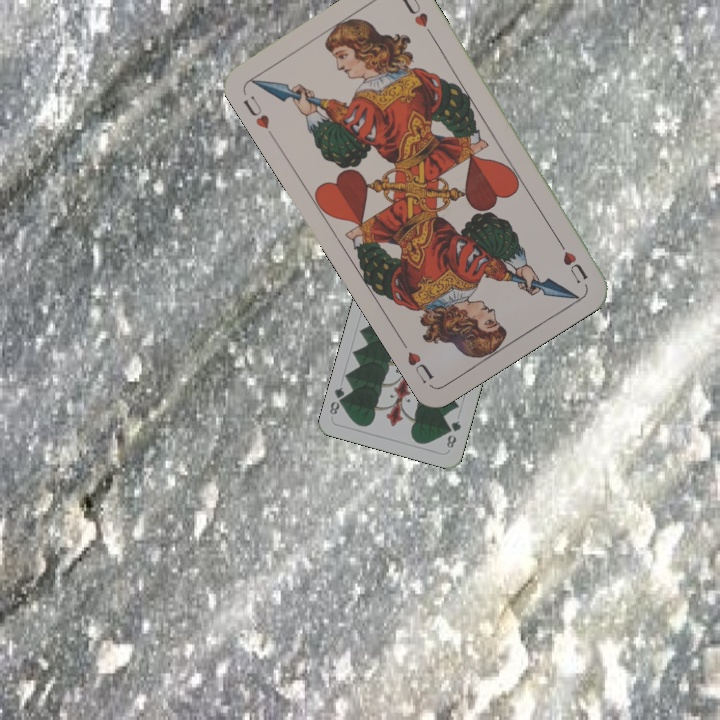G8: (442, 416, 464, 451)
HU: (552, 234, 590, 286), (239, 91, 272, 132)
